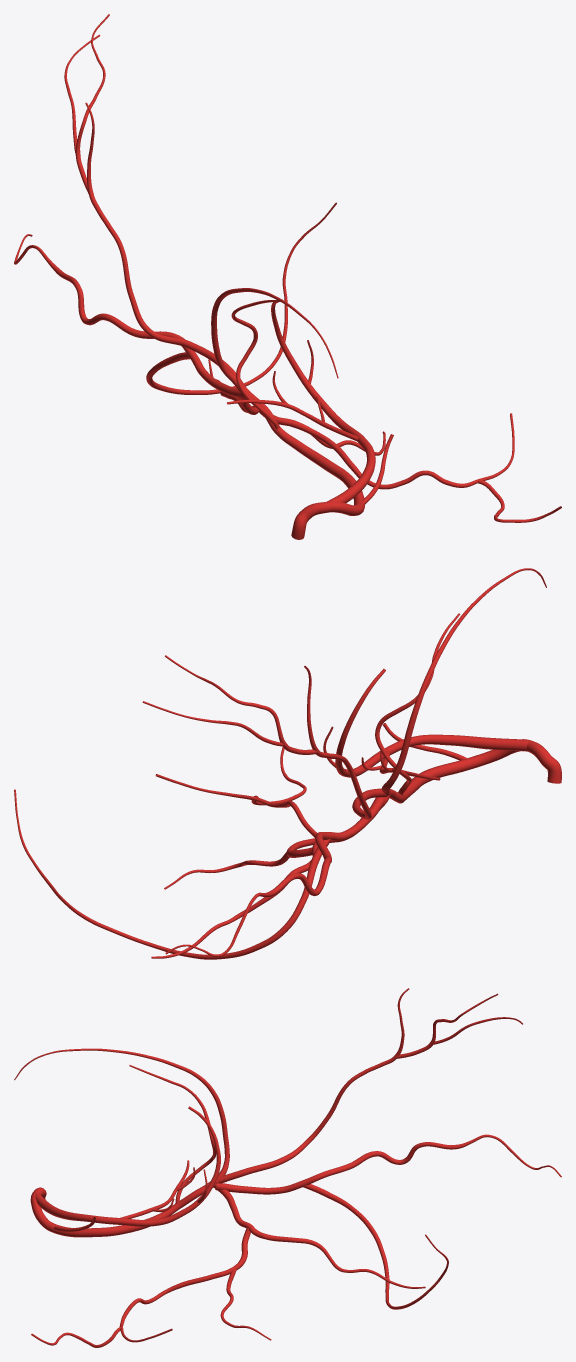
Rendered from circulatorio-posterior-cerebral-artery-l.glb.
The picture shows the model from 3 angles, top to bottom: view 1: azimuth 30°, elevation 25°; view 2: azimuth 150°, elevation 25°; view 3: azimuth 270°, elevation 25°; orthographic projection. The views are drawn at different scales.
Parts seen in each view (by area): view 1: Posterior cerebral artery.l, Parieto-occipital artery.l, Medial occipital artery.l, Lateral occipital artery.l; view 2: Posterior cerebral artery.l, Parieto-occipital artery.l, Lateral occipital artery.l, Medial occipital artery.l; view 3: Posterior cerebral artery.l, Parieto-occipital artery.l, Medial occipital artery.l, Lateral occipital artery.l.
Boxes of the visible parts, left/top/right/bottom form: Posterior cerebral artery.l: left=208, top=288, right=561, bottom=539; Parieto-occipital artery.l: left=64, top=14, right=246, bottom=387; Medial occipital artery.l: left=14, top=234, right=239, bottom=397; Lateral occipital artery.l: left=146, top=202, right=336, bottom=394; Posterior cerebral artery.l: left=151, top=568, right=561, bottom=958; Parieto-occipital artery.l: left=142, top=655, right=388, bottom=819; Lateral occipital artery.l: left=14, top=789, right=331, bottom=959; Medial occipital artery.l: left=165, top=797, right=384, bottom=956; Posterior cerebral artery.l: left=14, top=1048, right=425, bottom=1347; Parieto-occipital artery.l: left=215, top=988, right=522, bottom=1183; Medial occipital artery.l: left=215, top=1134, right=561, bottom=1194; Lateral occipital artery.l: left=303, top=1184, right=448, bottom=1309.
Size of the model in its own units: 0.0566 by 0.0643 by 0.1088.
